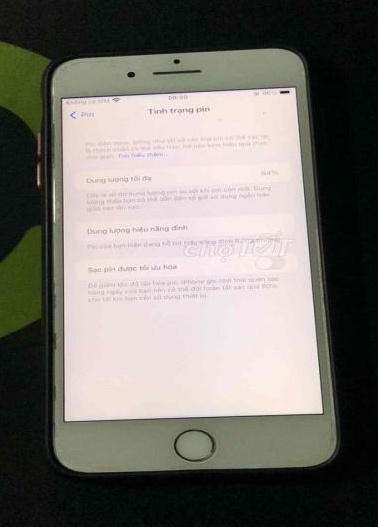scratch: (60, 54, 179, 68), (41, 378, 61, 445), (319, 408, 337, 457), (49, 276, 60, 311), (47, 328, 61, 351)
